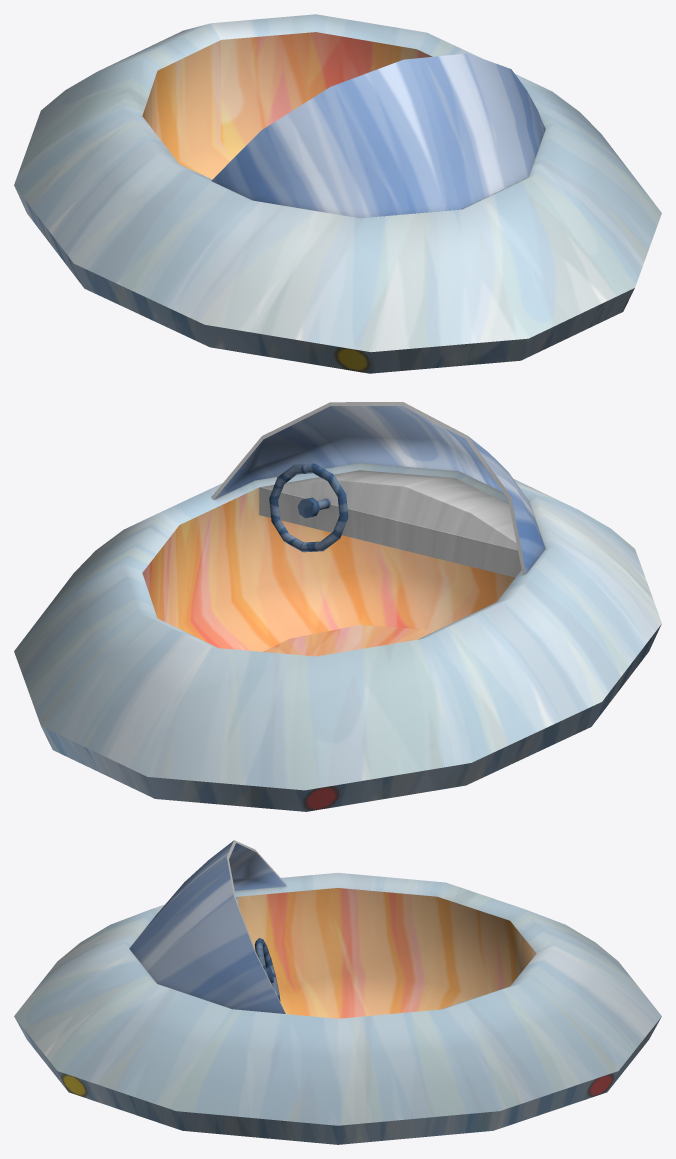
The model's file is nau.FBX.
3 renders of one model, top to bottom at view 1: azimuth 30°, elevation 25°; view 2: azimuth 150°, elevation 25°; view 3: azimuth 270°, elevation 25°, orthographic. The views are drawn at different scales.
Parts seen in each view (by area): view 1: nauCos, vidre; view 2: nauCos, vidre, taulell, volant; view 3: nauCos, vidre, volant.
Boxes of the visible parts, x1,y1,x2,y2 form: nauCos: (14,14,661,373); vidre: (211,53,545,218); nauCos: (14,463,661,811); vidre: (211,402,545,574); taulell: (259,470,521,577); volant: (269,463,348,552); nauCos: (14,872,661,1144); vidre: (129,840,286,1013); volant: (254,938,280,1001).
Size of the model in its own units: 3 by 1.52 by 3.75.
Materials: 2 (2 with a texture image).
